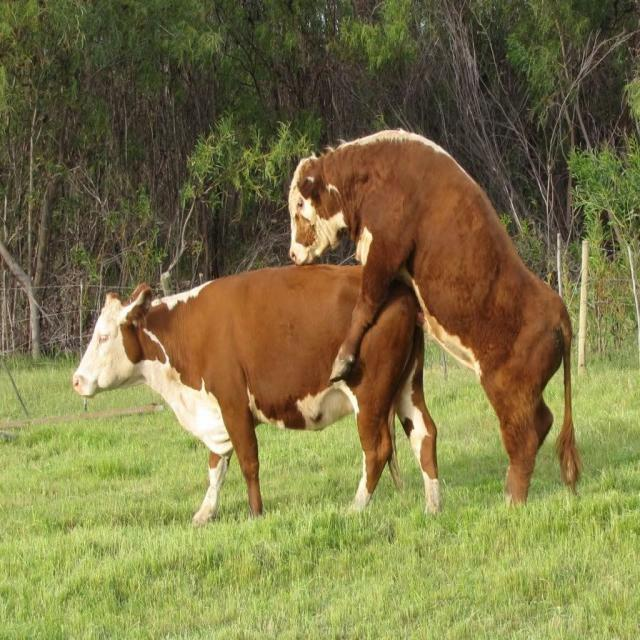cow: (289, 130, 580, 502), (74, 266, 439, 525)
